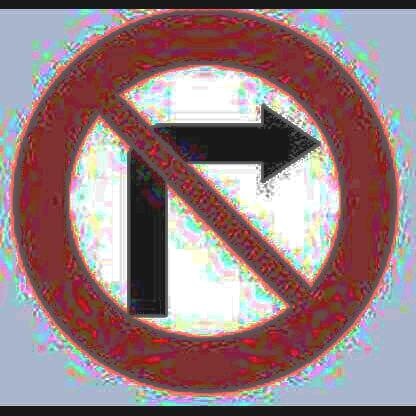No right turn: (8, 13, 406, 398)
